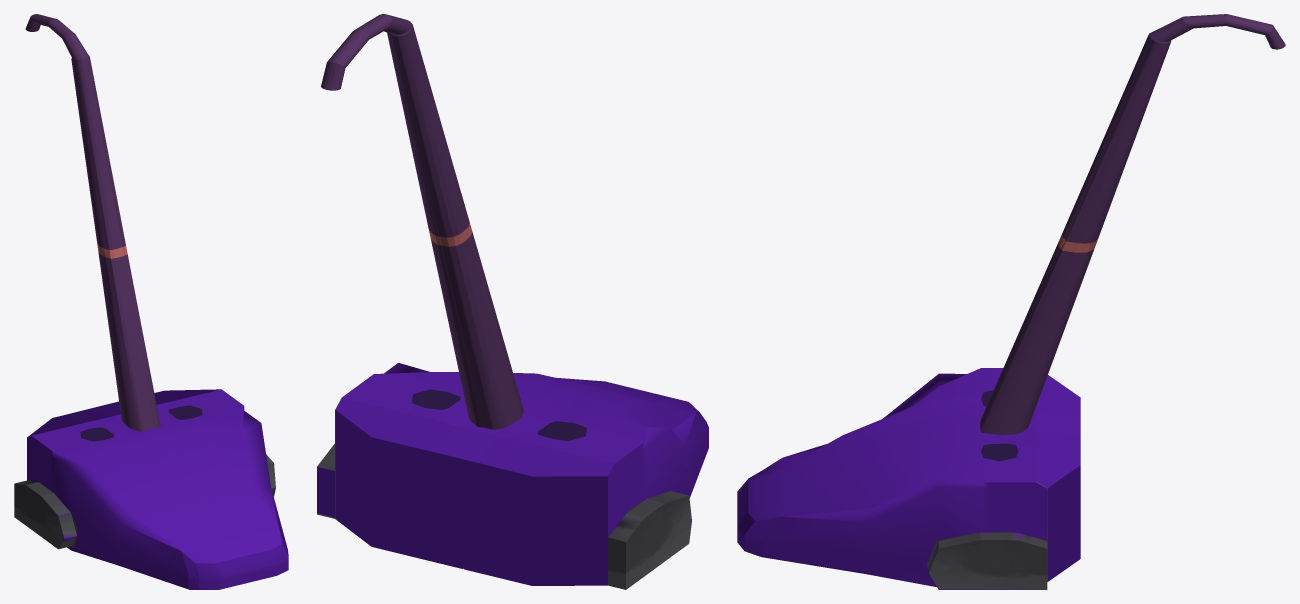
The model's file is vacoom cleaner .fbx.
3 views of the same model, side by side, from view 1: azimuth 30°, elevation 25°; view 2: azimuth 150°, elevation 25°; view 3: azimuth 270°, elevation 25° (orthographic). The views are drawn at different scales.
Visible parts, largest first — view 1: vacoom_cleaner; view 2: vacoom_cleaner; view 3: vacoom_cleaner.
Boxes of the visible parts, x1,y1,x2,y2 form: vacoom_cleaner: (14,14,288,589); vacoom_cleaner: (317,14,708,589); vacoom_cleaner: (737,14,1285,589).
Bounding box in the file's own units: 49.92 × 93.1 × 89.38.
Materials: 3 (1 with a texture image).
